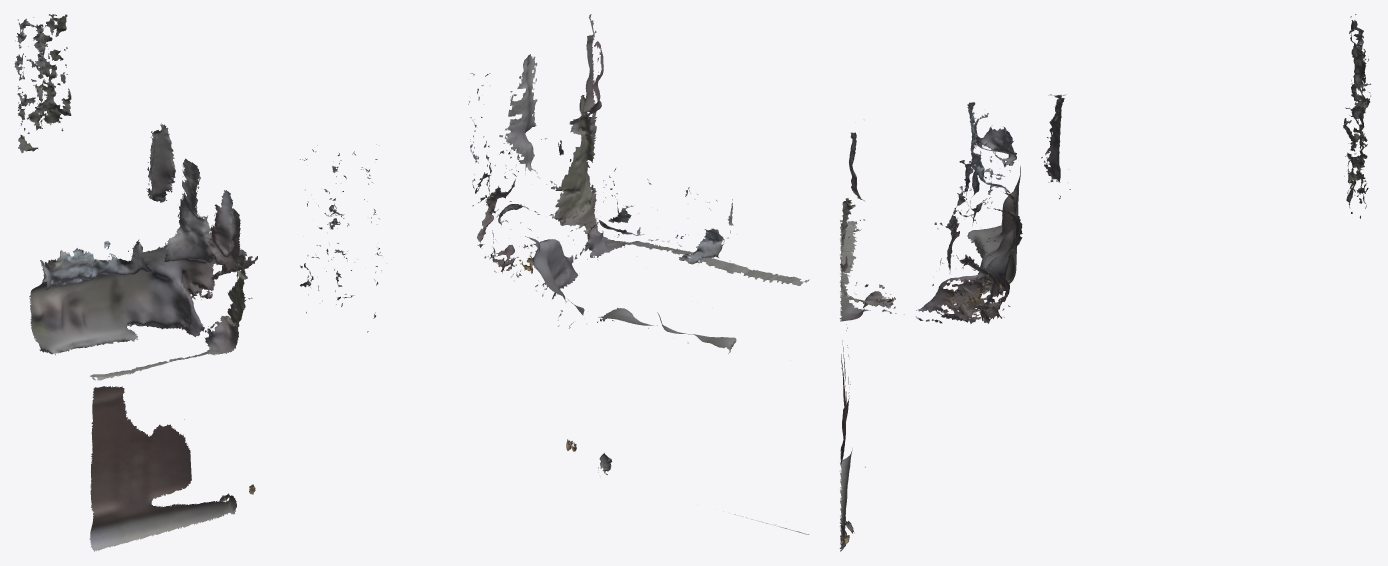
The model's file is apartment-full-79-61065737c1ee.glb.
The picture shows the model from 3 angles, left to right: view 1: azimuth 30°, elevation 25°; view 2: azimuth 150°, elevation 25°; view 3: azimuth 270°, elevation 25°; orthographic projection. The views are drawn at different scales.
Size of the model in its own units: 1.08 by 1.97 by 1.81.
